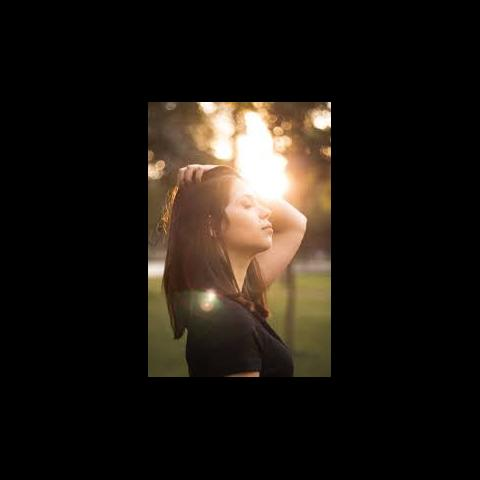closed: (224, 187, 264, 219)
